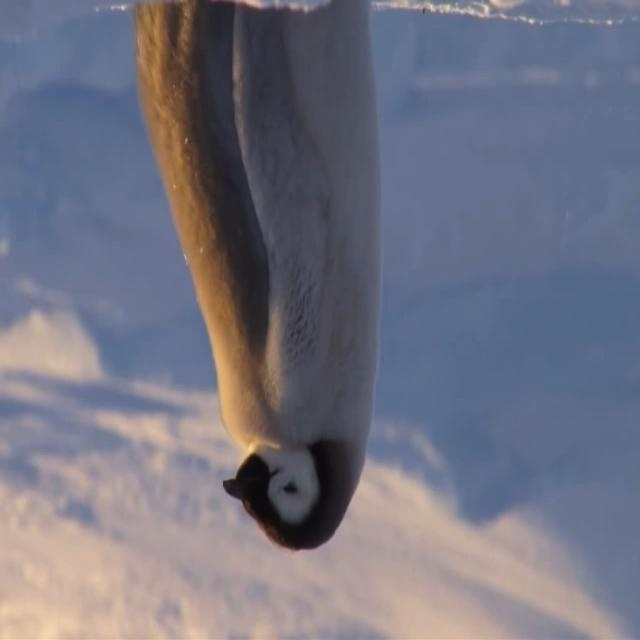penguin: (130, 3, 384, 551)
